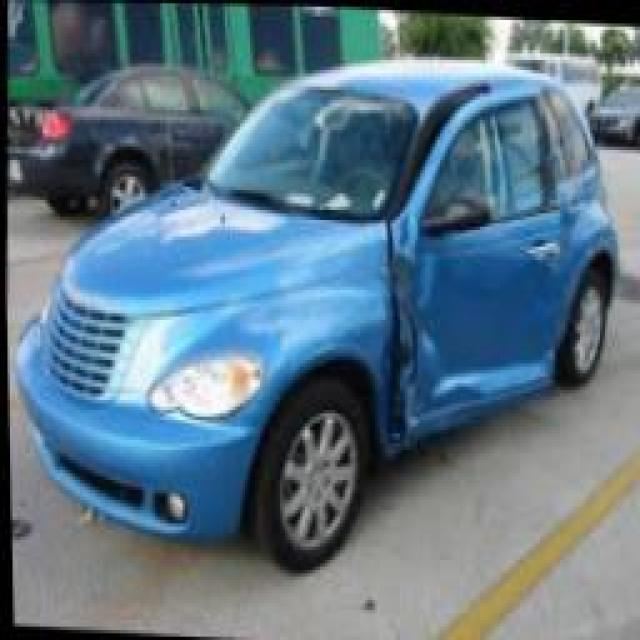rapairable: (366, 249, 436, 430)
